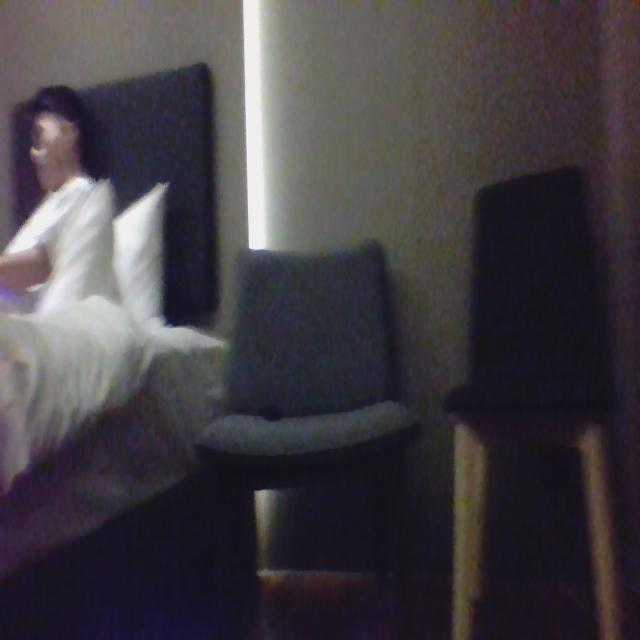empty: (218, 250, 396, 453), (458, 190, 598, 402)
